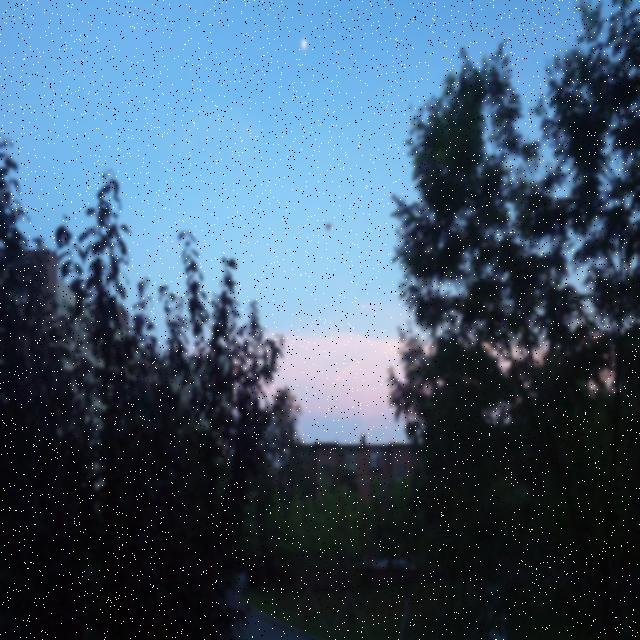UAV: (323, 220, 334, 232)
